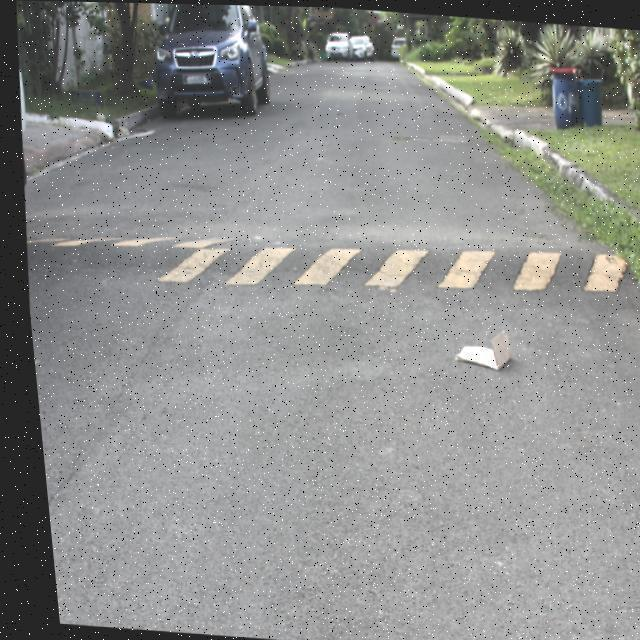Paper_Bag: (444, 324, 506, 370)
